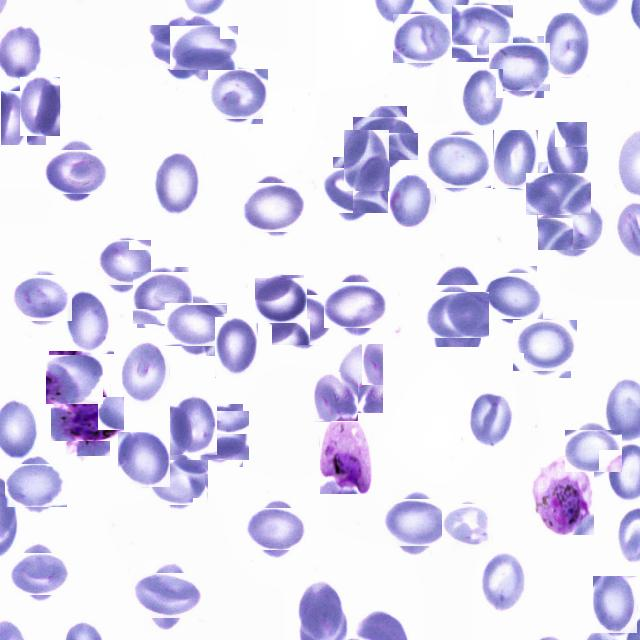difficult: (531, 457, 594, 535)
red blood cell: (429, 132, 488, 192), (543, 197, 602, 256), (138, 566, 196, 625), (454, 2, 512, 60), (516, 317, 574, 375), (245, 178, 302, 236), (275, 292, 332, 349), (387, 494, 444, 551), (338, 344, 384, 414), (64, 290, 114, 354), (175, 20, 232, 76), (210, 66, 266, 122), (135, 270, 191, 326), (190, 408, 247, 463), (431, 264, 481, 326), (328, 162, 383, 218), (122, 342, 170, 406), (430, 288, 485, 343), (492, 40, 548, 94), (154, 153, 202, 216), (1, 81, 47, 146), (480, 551, 528, 613), (328, 278, 383, 332), (358, 111, 412, 166), (153, 20, 208, 74), (49, 144, 103, 199), (15, 270, 70, 324), (118, 432, 171, 488), (544, 13, 590, 77), (395, 12, 449, 66), (532, 168, 586, 222), (47, 353, 101, 406), (344, 130, 390, 192), (170, 395, 217, 455), (170, 298, 222, 352), (9, 460, 63, 512), (152, 456, 205, 508), (488, 269, 540, 322), (493, 130, 539, 189), (13, 548, 65, 600), (251, 503, 303, 555), (215, 317, 259, 378), (548, 121, 588, 188), (593, 576, 638, 634), (256, 276, 306, 326), (568, 426, 618, 476), (390, 175, 436, 228), (101, 238, 149, 288), (20, 77, 60, 136), (468, 393, 512, 446), (443, 502, 491, 550), (464, 69, 503, 128), (314, 372, 359, 422)
schizont: (59, 389, 118, 448)
trophozoite: (320, 412, 372, 494)
